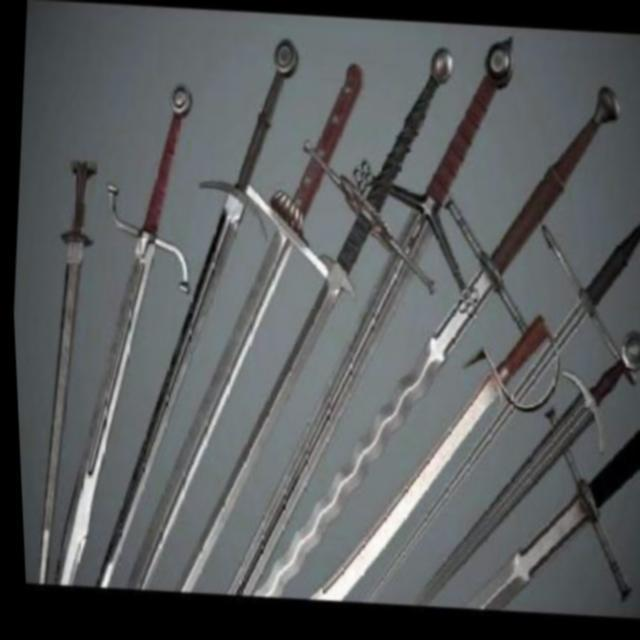weapon: (7, 0, 640, 635)
